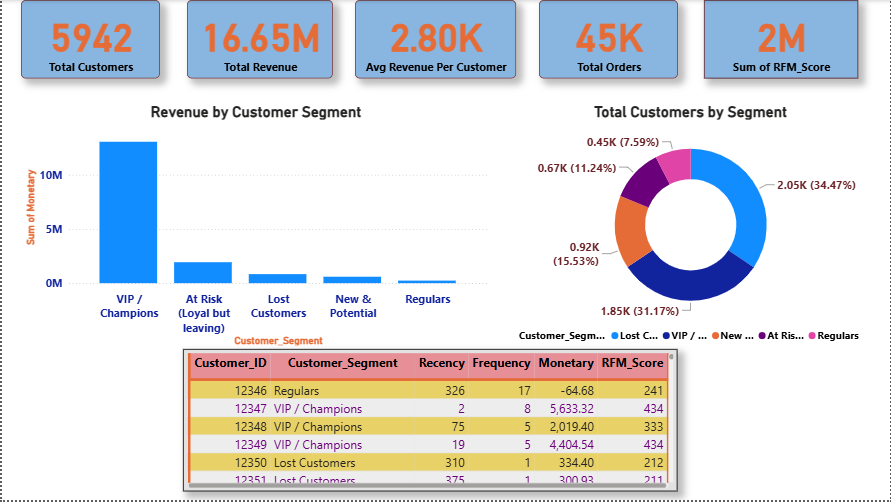

The page's visual inventory and layout, read from the dashboard file:
{"tool":"powerbi","page":{"name":"Page 1","canvas":[1280,720],"ordinal":0},"visuals":[{"type":"card","fields":{"Values":["CountNonNull(RFM_Final_Data.Customer_ID)"]},"box":[26.9,0,199.9,112.5],"z":0},{"type":"card","fields":{"Values":["Sum(RFM_Final_Data.Monetary)"]},"box":[267.1,0,210,112.5],"z":1000},{"type":"card","fields":{"Values":["Avg(RFM_Final_Data.Monetary)"]},"box":[509,0,231.8,112.5],"z":2000},{"type":"card","fields":{"Values":["Sum(RFM_Final_Data.Frequency)"]},"box":[772.7,0,199.9,112.5],"z":3000},{"type":"card","fields":{"Values":["Sum(RFM_Final_Data.RFM_Score)"]},"box":[1011.2,0,221.7,112.5],"z":4000},{"type":"clusteredColumnChart","title":"Revenue by Customer Segment","fields":{"Category":["RFM_Final_Data.Customer_Segment"],"Y":["Sum(RFM_Final_Data.Monetary)"]},"box":[26.9,147.8,677,354.4],"z":5000},{"type":"donutChart","title":"Total Customers by Segment","fields":{"Category":["RFM_Final_Data.Customer_Segment"],"Y":["CountNonNull(RFM_Final_Data.Customer_ID)"]},"box":[727.3,147.8,529.1,354.4],"z":6000},{"type":"tableEx","fields":{"Values":["RFM_Final_Data.Customer_ID","RFM_Final_Data.Customer_Segment","RFM_Final_Data.Recency","RFM_Final_Data.Frequency","RFM_Final_Data.Monetary","RFM_Final_Data.RFM_Score"]},"box":[260.4,502.3,712.2,204.9],"z":7000}]}

Visuals, with their boxes in screenshot pixels (x1, y1, x2, y2), scaled from the page's 1280x720 canvas onto the 891x502 screenshot:
card - CountNonNull(RFM_Final_Data.Customer_ID): bbox=[19, 0, 158, 78]
card - Sum(RFM_Final_Data.Monetary): bbox=[186, 0, 332, 78]
card - Avg(RFM_Final_Data.Monetary): bbox=[354, 0, 516, 78]
card - Sum(RFM_Final_Data.Frequency): bbox=[538, 0, 677, 78]
card - Sum(RFM_Final_Data.RFM_Score): bbox=[704, 0, 858, 78]
"Revenue by Customer Segment" clusteredColumnChart: bbox=[19, 103, 490, 350]
"Total Customers by Segment" donutChart: bbox=[506, 103, 875, 350]
tableEx - RFM_Final_Data.Customer_ID x RFM_Final_Data.Customer_Segment: bbox=[181, 350, 677, 493]
